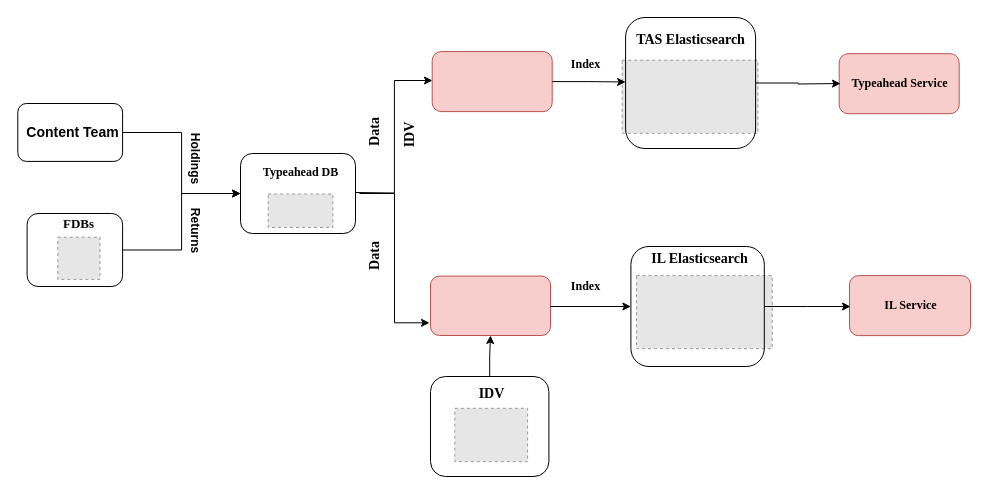
This 988x494 diagram has some shape labels left out. Grey dashed boxes stand in for pictures. The shapes that lost their labels are listed below. From the top down, each one's centre as x and y in pixels, then its label:
At (x=491, y=81): "Sym-tas Indexing".
At (x=490, y=305): "Sym-il Indexing".
